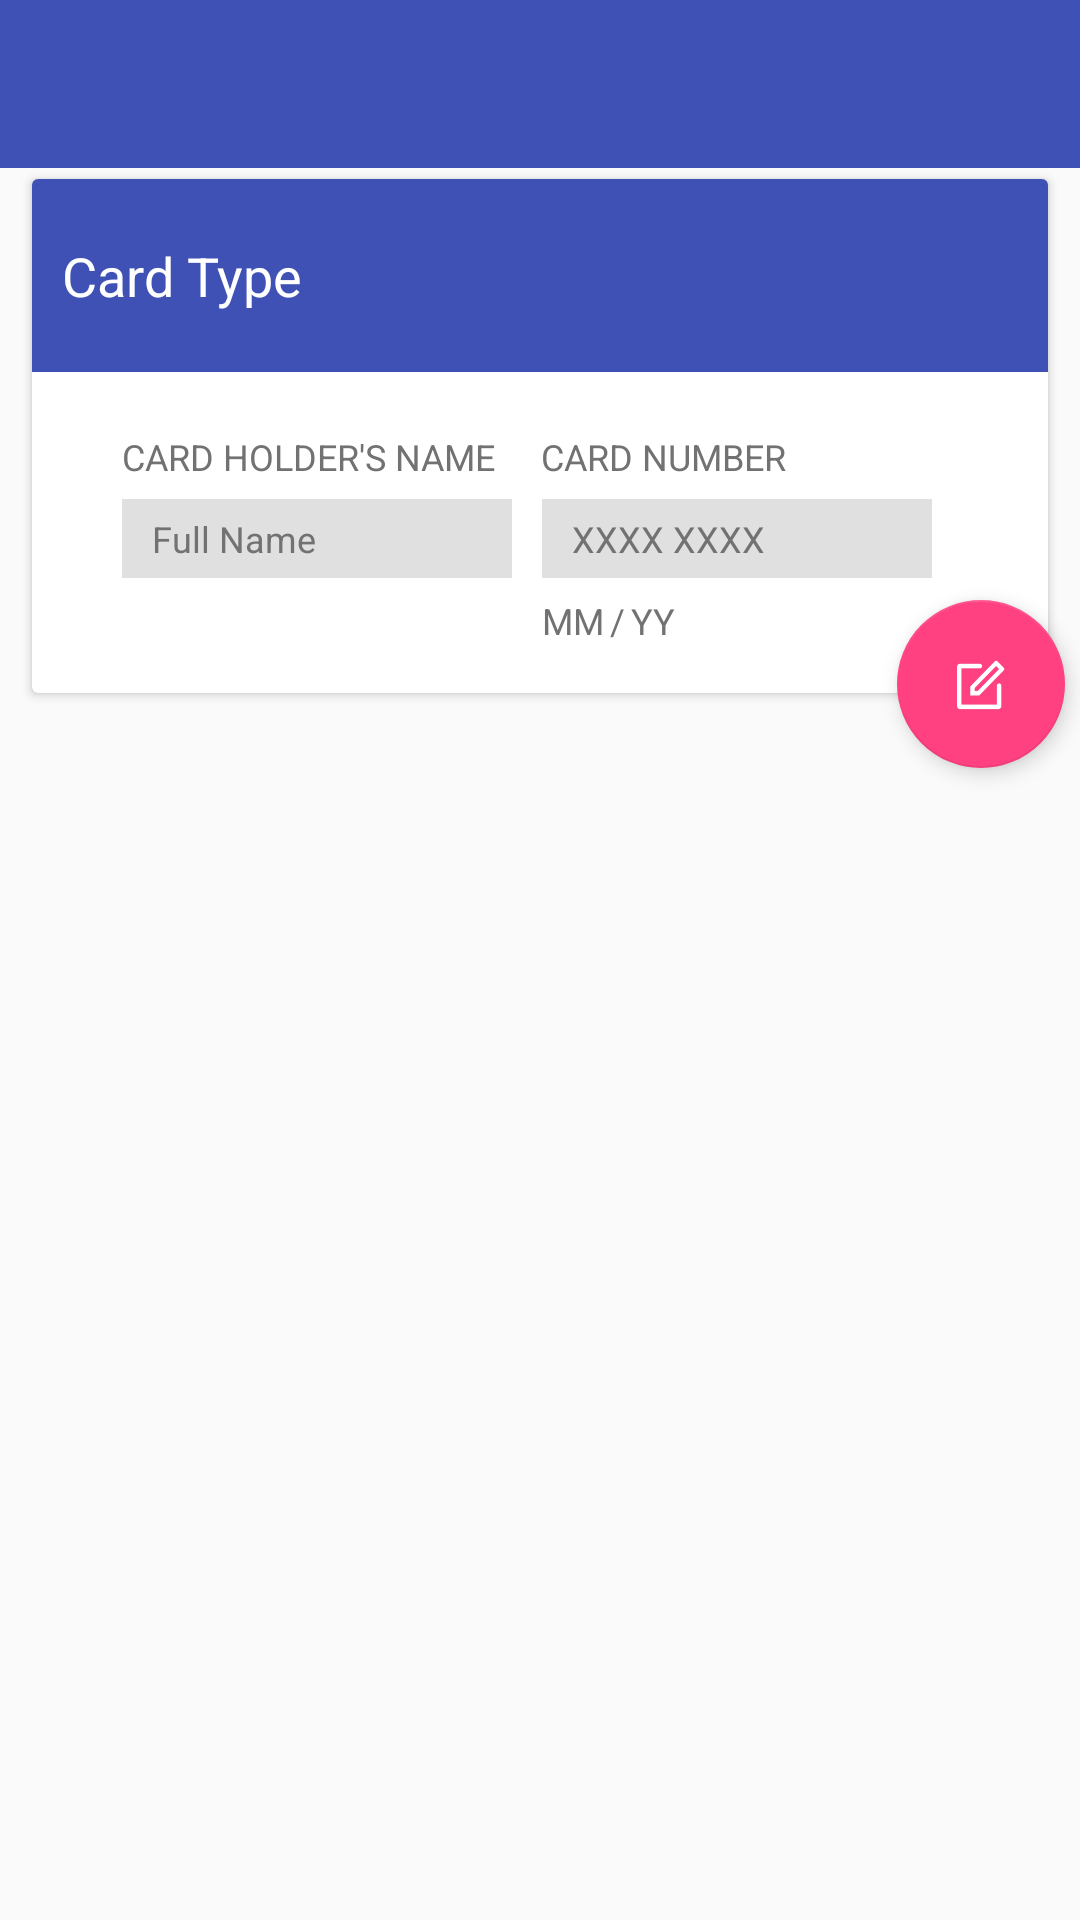

Where to tap for icons on this 1080*1920 app screen, as point (x, y):
edit: point (981, 684)
